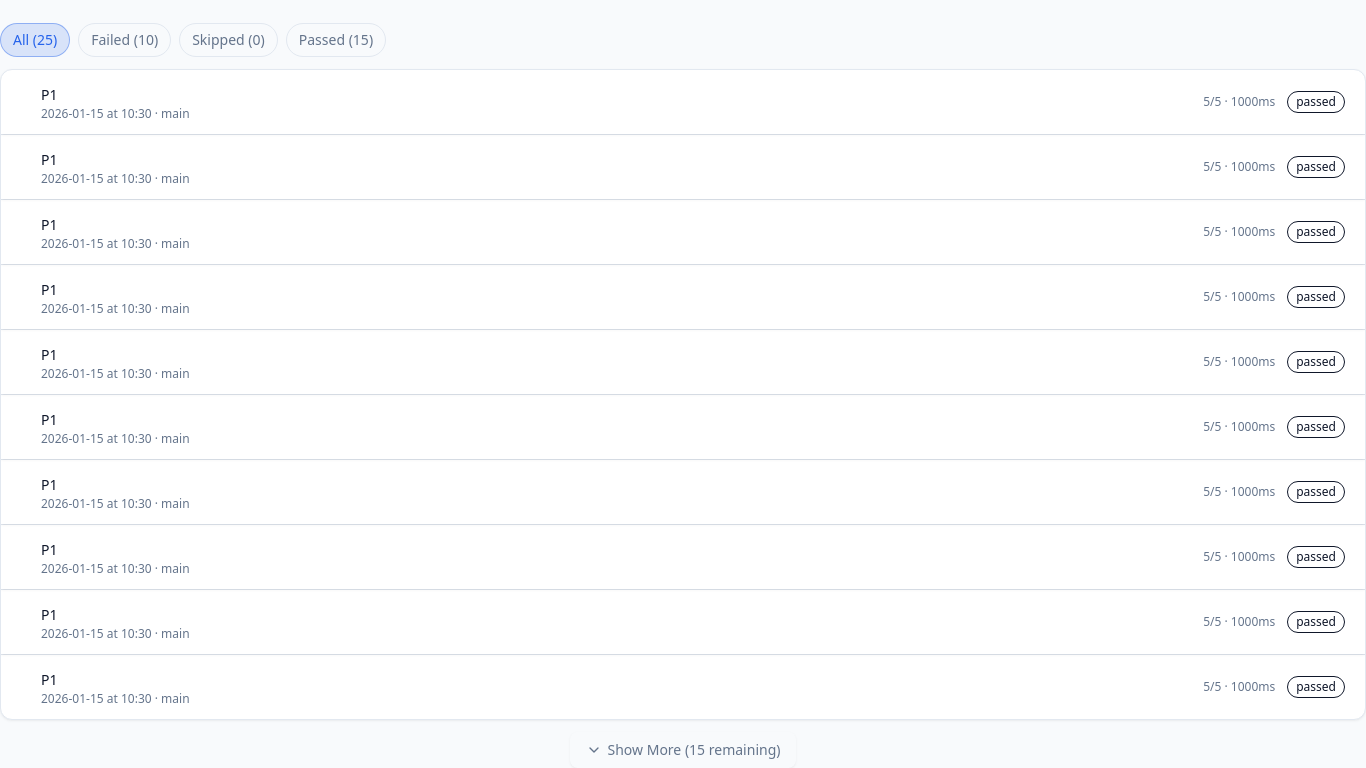
Test: RecentRuns › resets visible count when changing filter
(page scrolled)
Note: Show more to increase visible count
Click the button "Show More (15 remaining)".
click(683, 750)  # box [570,732,796,767]
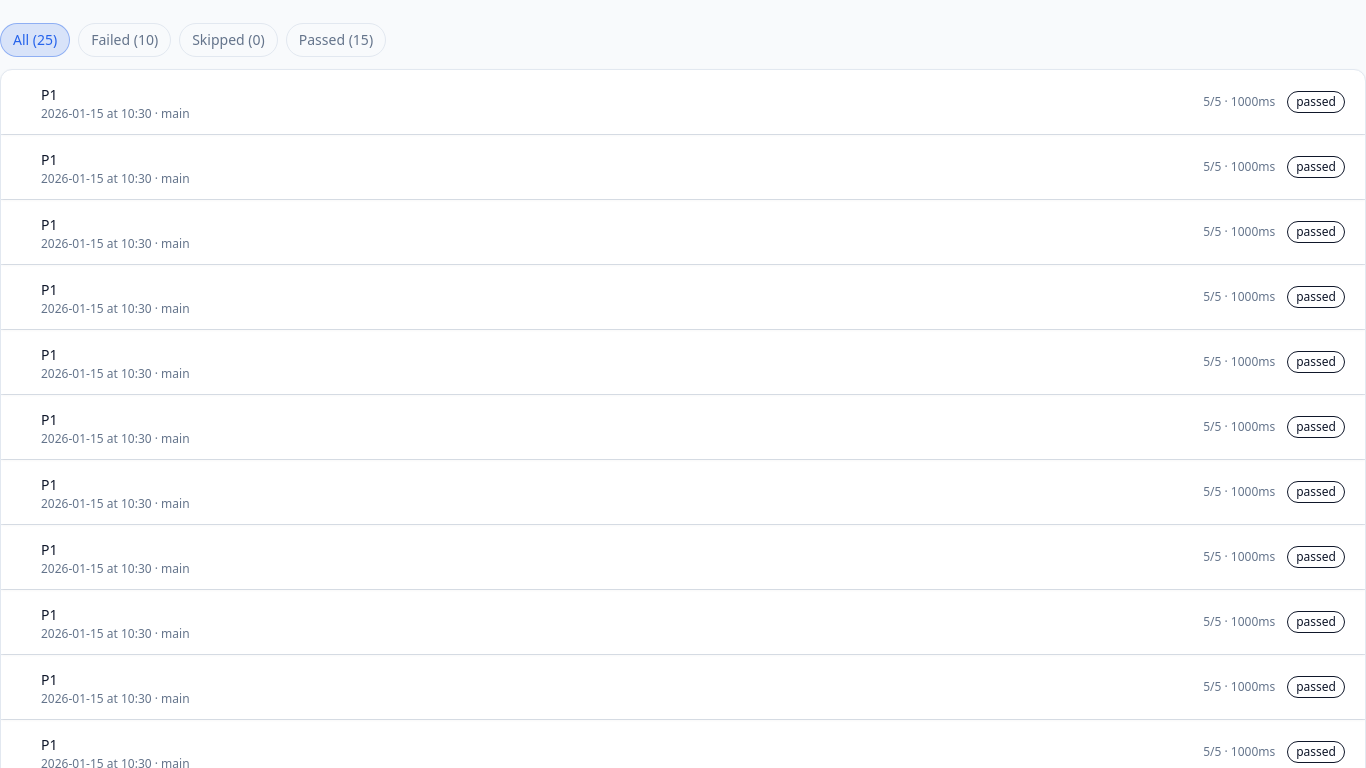
Note: Now click a filter - should reset to page size (10)
Click the button "Failed (10)".
click(125, 40)  # box [78,23,171,57]
(page scrolled)
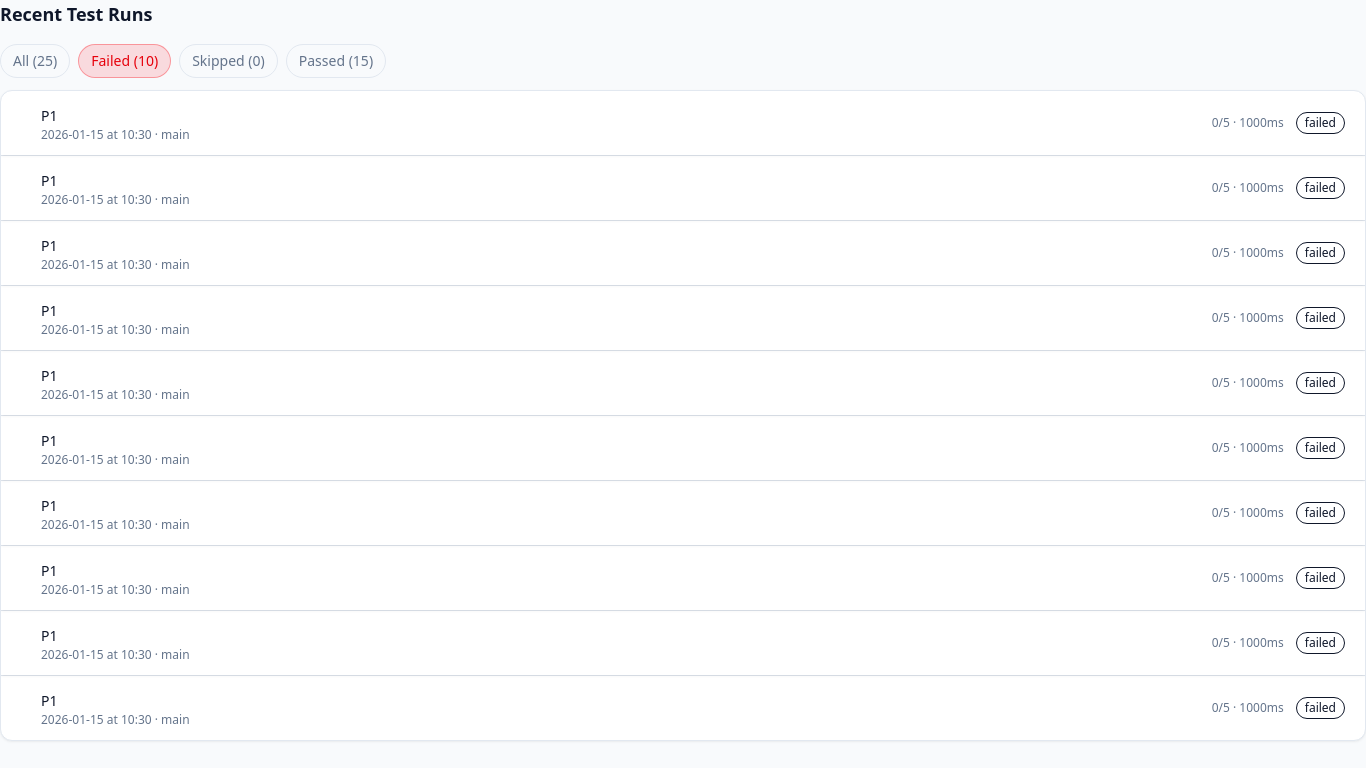
Expected: the number of links is 10
